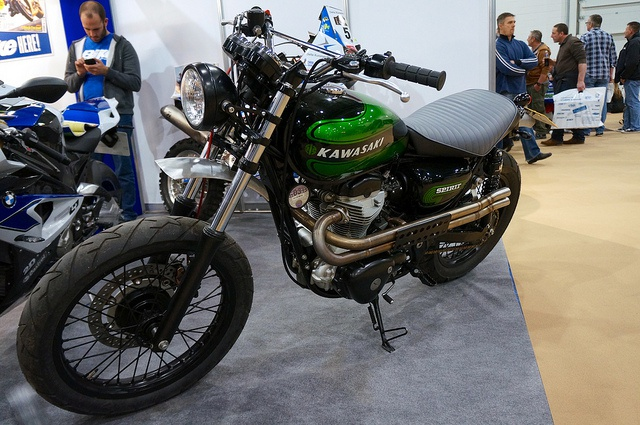non-vehicle: (19, 8, 528, 415), (0, 78, 129, 313)
